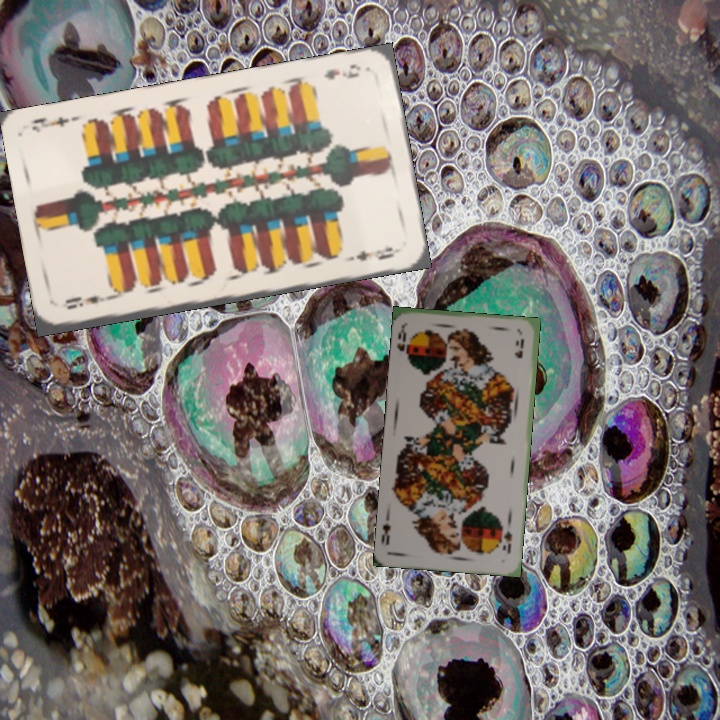E9: (58, 291, 116, 312), (320, 60, 364, 82)
SO: (393, 322, 413, 363), (498, 527, 514, 555)
